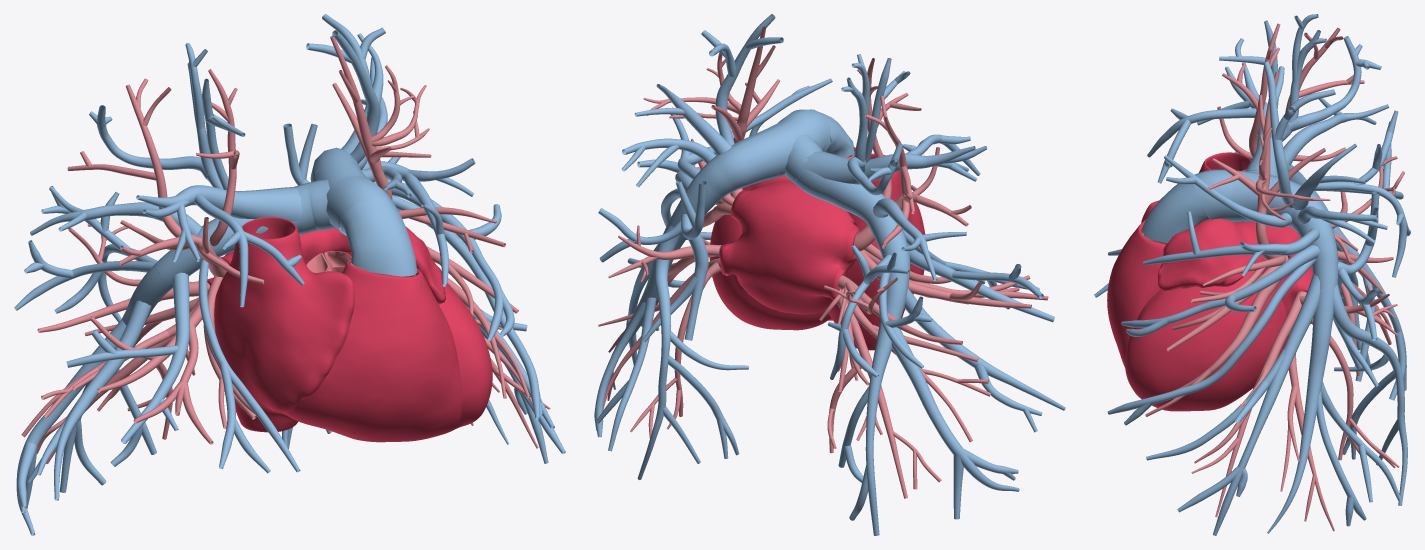
File: z-anatomy-1.4.0-cardiovascular.glb
3 views of the same model, side by side, from view 1: azimuth 30°, elevation 25°; view 2: azimuth 150°, elevation 25°; view 3: azimuth 270°, elevation 25° (orthographic). The views are drawn at different scales.
Visible parts, largest first — view 1: heart-right-ventricle__Right ventricle, heart-right-atrium__Right atrium, pulmonary-arteries-pulmonary-trunk__Pulmonary trunk, pulmonary-arteries-anterior-segmental-artery-of-right-lung__, pulmonary-arteries-apical-segmental-artery-of-right-lung__Ap, pulmonary-arteries-superior-segmental-artery-of-right-lung__, pulmonary-arteries-bifurcation-of-pulmonary-trunk__Bifurcati, pulmonary-veins-apicoposterior-vein-of-left-lung__Apicoposte, heart-left-ventricle__Left ventricle, pulmonary-arteries-lateral-segmental-artery-of-right-lung__L, pulmonary-arteries-medial-segmental-artery-of-right-lung__Me, pulmonary-veins-posterior-vein-of-right-lung__Posterior vein (+27 smaller); view 2: heart-left-atrium__Left atrium, pulmonary-arteries-left-pulmonary-artery__Left pulmonary art, pulmonary-arteries-posterior-basal-segmental-artery-of-left-, heart-left-ventricle__Left ventricle, pulmonary-arteries-superior-segmental-artery-of-right-lung__, pulmonary-arteries-apical-segmental-artery-of-right-lung__Ap, pulmonary-arteries-anterior-basal-segmental-artery-of-right-, pulmonary-arteries-anterior-basal-segmental-artery-of-left-l, pulmonary-arteries-posterior-segmental-artery-of-left-lung__, pulmonary-arteries-bifurcation-of-pulmonary-trunk__Bifurcati, pulmonary-veins-apicoposterior-vein-of-left-lung__Apicoposte, pulmonary-arteries-posterior-basal-segmental-artery-of-right (+27 smaller); view 3: heart-left-ventricle__Left ventricle, heart-left-atrium__Left atrium, pulmonary-arteries-lateral-basal-segmental-artery-of-left-lu, heart-right-ventricle__Right ventricle, pulmonary-arteries-anterior-basal-segmental-artery-of-left-l, pulmonary-arteries-left-pulmonary-artery__Left pulmonary art, pulmonary-arteries-anterior-segmental-artery-of-left-lung__A, pulmonary-arteries-apical-segmental-artery-of-right-lung__Ap, pulmonary-arteries-posterior-basal-segmental-artery-of-left-, pulmonary-veins-apicoposterior-vein-of-left-lung__Apicoposte, pulmonary-arteries-superior-lingular-artery-of-left-lung__Su, pulmonary-arteries-inferior-lingular-artery-of-left-lung__In (+24 smaller).
Boxes of the visible parts, <box> form: heart-right-ventricle__Right ventricle: <box>284,260,462,442</box>; heart-right-atrium__Right atrium: <box>214,217,354,432</box>; pulmonary-arteries-pulmonary-trunk__Pulmonary trunk: <box>339,197,417,276</box>; pulmonary-arteries-anterior-segmental-artery-of-right-lung__: <box>136,185,304,307</box>; pulmonary-arteries-apical-segmental-artery-of-right-lung__Ap: <box>89,43,245,190</box>; pulmonary-arteries-superior-segmental-artery-of-right-lung__: <box>14,186,159,322</box>; pulmonary-arteries-bifurcation-of-pulmonary-trunk__Bifurcati: <box>294,159,392,235</box>; pulmonary-veins-apicoposterior-vein-of-left-lung__Apicoposte: <box>330,35,431,199</box>; heart-left-ventricle__Left ventricle: <box>347,253,492,427</box>; pulmonary-arteries-lateral-segmental-artery-of-right-lung__L: <box>66,272,189,443</box>; pulmonary-arteries-medial-segmental-artery-of-right-lung__Me: <box>198,260,300,473</box>; pulmonary-veins-posterior-vein-of-right-lung__Posterior vein: <box>67,78,198,265</box>; heart-left-atrium__Left atrium: <box>719,175,859,314</box>; pulmonary-arteries-left-pulmonary-artery__Left pulmonary art: <box>645,132,781,296</box>; pulmonary-arteries-posterior-basal-segmental-artery-of-left-: <box>637,225,748,479</box>; heart-left-ventricle__Left ventricle: <box>709,214,830,330</box>; pulmonary-arteries-superior-segmental-artery-of-right-lung__: <box>828,245,932,379</box>; pulmonary-arteries-apical-segmental-artery-of-right-lung__Ap: <box>841,54,910,195</box>; pulmonary-arteries-anterior-basal-segmental-artery-of-right-: <box>891,327,1019,519</box>; pulmonary-arteries-anterior-basal-segmental-artery-of-left-l: <box>594,287,657,451</box>; pulmonary-arteries-posterior-segmental-artery-of-left-lung__: <box>621,84,731,187</box>; pulmonary-arteries-bifurcation-of-pulmonary-trunk__Bifurcati: <box>759,109,830,185</box>; pulmonary-veins-apicoposterior-vein-of-left-lung__Apicoposte: <box>643,26,779,195</box>; pulmonary-arteries-posterior-basal-segmental-artery-of-right: <box>849,323,892,535</box>; heart-left-ventricle__Left ventricle: <box>1125,270,1287,411</box>; heart-left-atrium__Left atrium: <box>1158,218,1312,315</box>; pulmonary-arteries-lateral-basal-segmental-artery-of-left-lu: <box>1146,273,1320,535</box>; heart-right-ventricle__Right ventricle: <box>1107,219,1165,367</box>; pulmonary-arteries-anterior-basal-segmental-artery-of-left-l: <box>1267,375,1401,533</box>; pulmonary-arteries-left-pulmonary-artery__Left pulmonary art: <box>1266,176,1338,376</box>; pulmonary-arteries-anterior-segmental-artery-of-left-lung__A: <box>1143,155,1319,276</box>; pulmonary-arteries-apical-segmental-artery-of-right-lung__Ap: <box>1219,14,1381,141</box>; pulmonary-arteries-posterior-basal-segmental-artery-of-left-: <box>1333,283,1407,505</box>; pulmonary-veins-apicoposterior-vein-of-left-lung__Apicoposte: <box>1207,71,1330,260</box>; pulmonary-arteries-superior-lingular-artery-of-left-lung__Su: <box>1121,245,1319,336</box>; pulmonary-arteries-inferior-lingular-artery-of-left-lung__In: <box>1107,258,1316,425</box>.
Size of the model in its own units: 0.256 by 0.2397 by 0.1658.
